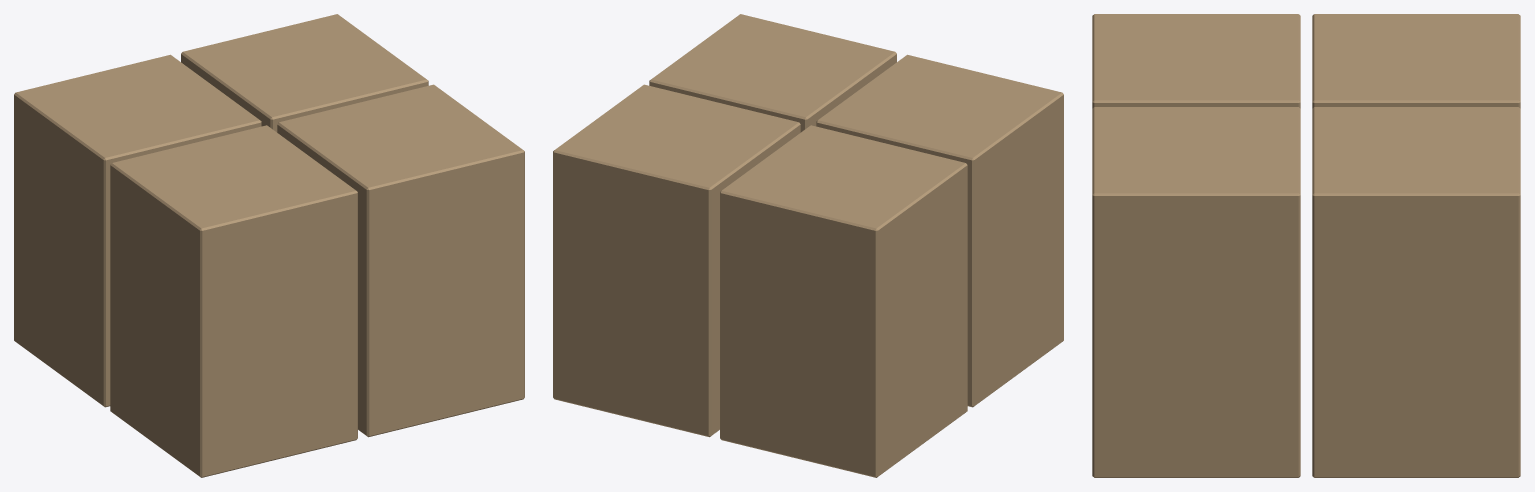
File: covers_caisses_w.glb
The picture shows the model from 3 angles, left to right: view 1: azimuth 30°, elevation 25°; view 2: azimuth 150°, elevation 25°; view 3: azimuth 270°, elevation 25°; orthographic projection. The views are drawn at different scales.
Visible parts, largest first — view 1: covers_caisses_w; view 2: covers_caisses_w; view 3: covers_caisses_w.
Part boxes in pixels (x1=…): covers_caisses_w: x1=14, y1=14, x2=524, y2=477; covers_caisses_w: x1=553, y1=14, x2=1063, y2=477; covers_caisses_w: x1=1092, y1=14, x2=1520, y2=477.
Bounding box in the file's own units: 1.5 × 1.1 × 1.5.
